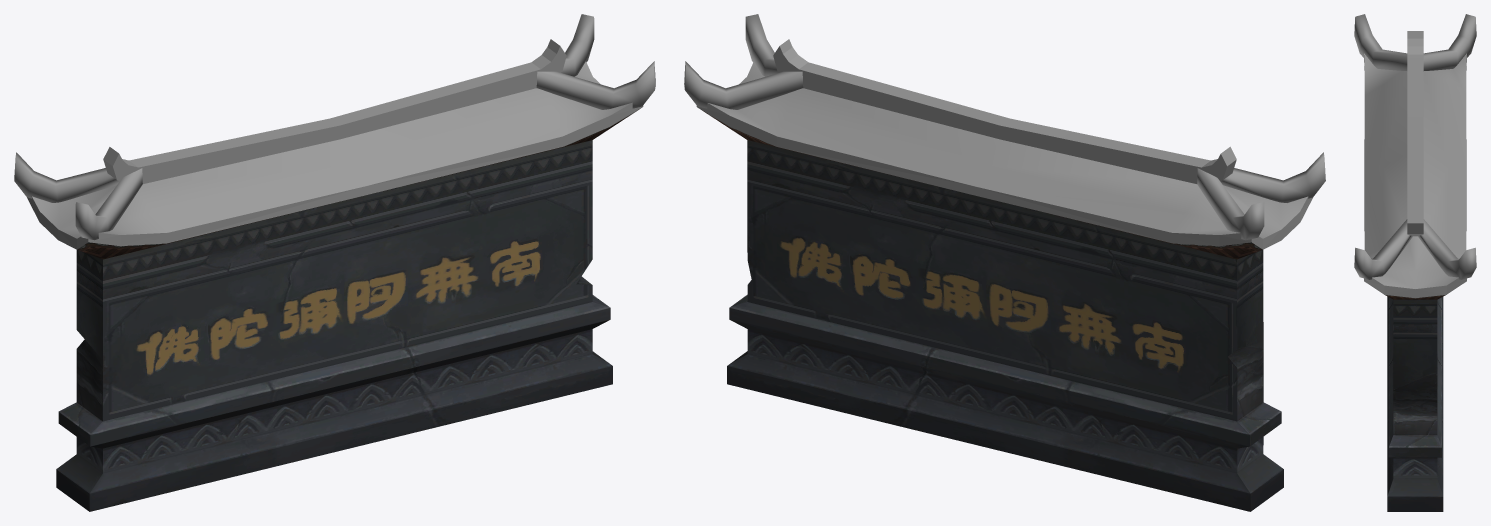
File: q01c_building_020.FBX
3 renders of one model, left to right at view 1: azimuth 30°, elevation 25°; view 2: azimuth 150°, elevation 25°; view 3: azimuth 270°, elevation 25°, orthographic. The views are drawn at different scales.
Visible parts, largest first — view 1: q01c_building_020_02, q01c_building_020_01; view 2: q01c_building_020_02, q01c_building_020_01; view 3: q01c_building_020_01, q01c_building_020_02.
Part boxes in pixels (x1,y1,x2,y2): q01c_building_020_02: (56, 108, 640, 511); q01c_building_020_01: (14, 14, 655, 249); q01c_building_020_02: (700, 109, 1283, 511); q01c_building_020_01: (684, 14, 1325, 249); q01c_building_020_01: (1354, 14, 1476, 298); q01c_building_020_02: (1384, 294, 1446, 511).
Size of the model in its own units: 1067 by 596 by 233.
